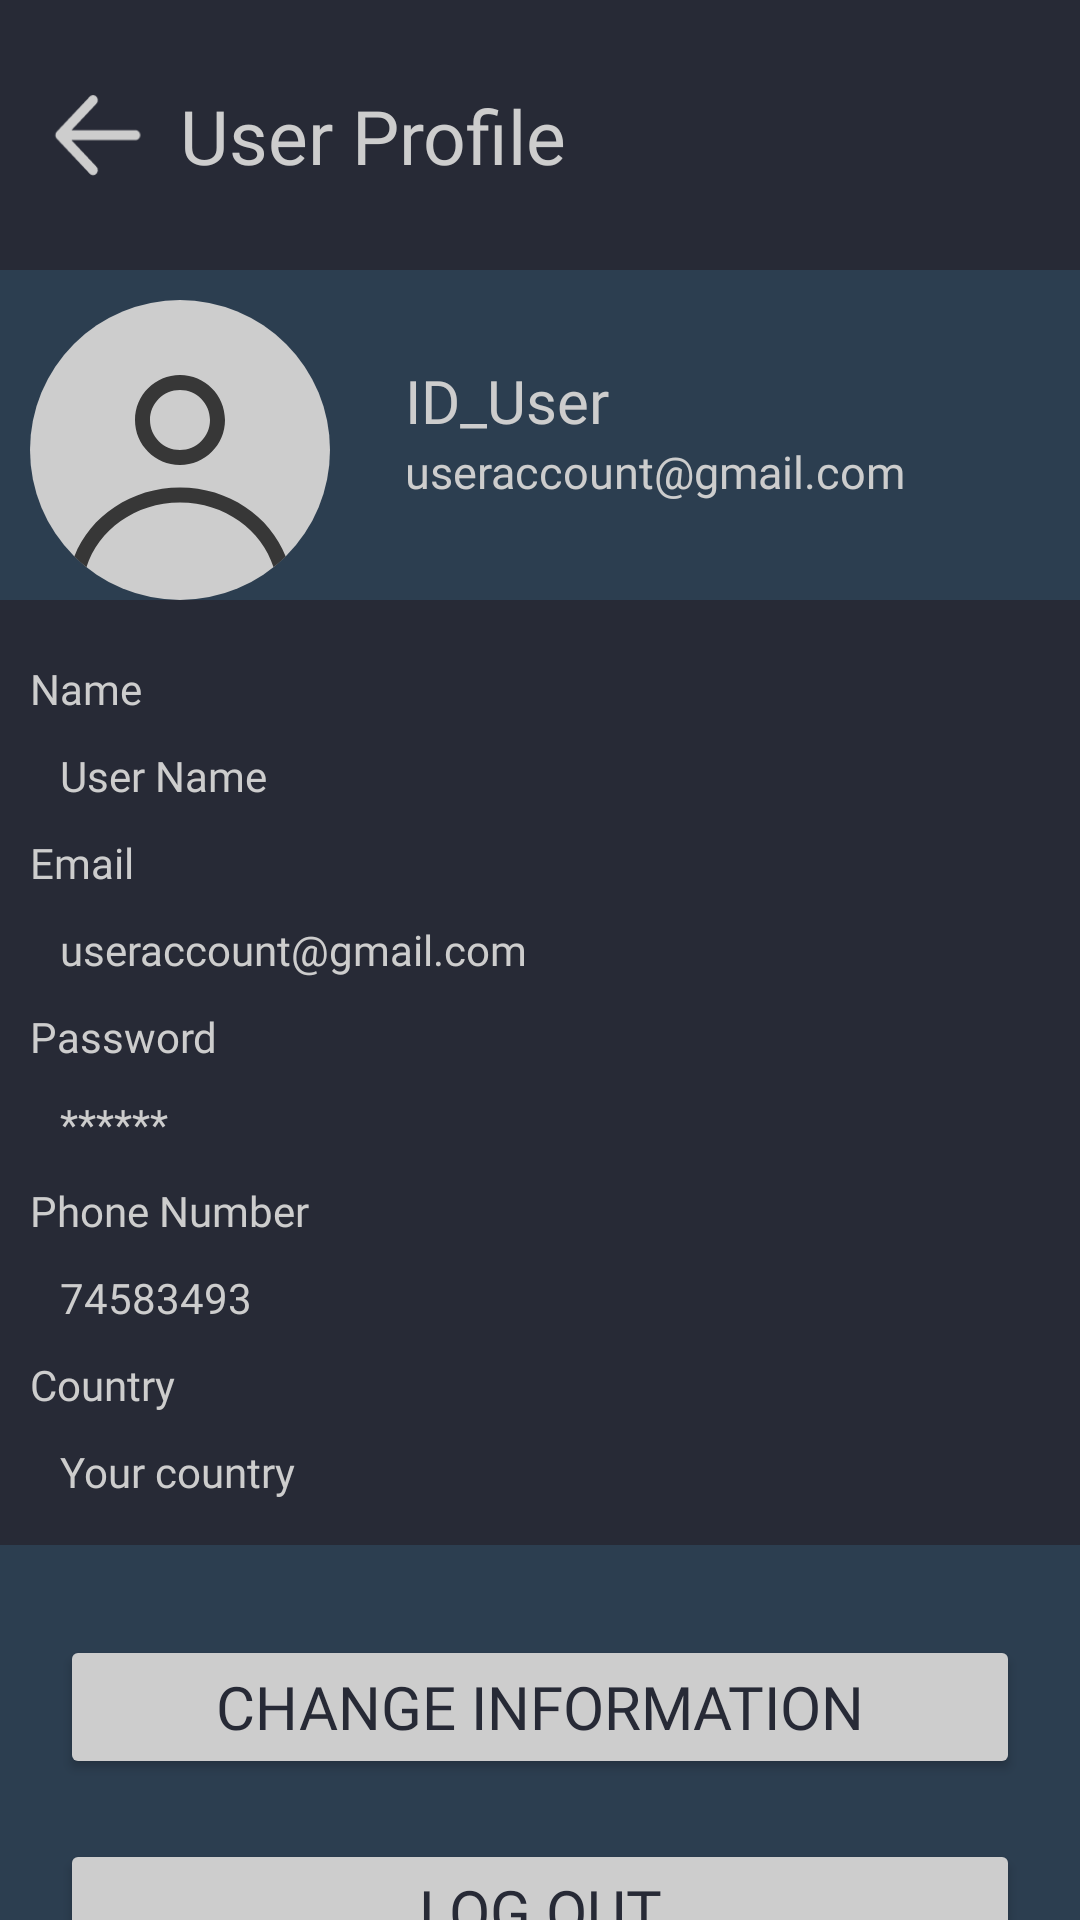

Icon click points for this 1080x1920 phone screenshot, format (x,y):
left arrow: (98,135)
